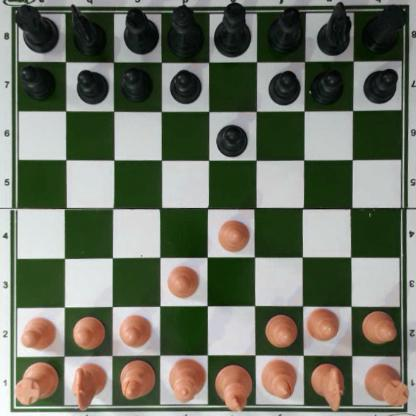black-bishop: (122, 5, 159, 53), (266, 5, 303, 53)
black-king: (214, 3, 251, 56)
black-knight: (70, 2, 105, 57), (317, 1, 350, 56)
black-pawn: (363, 67, 398, 105), (20, 64, 55, 99), (215, 120, 249, 156), (170, 67, 202, 104), (311, 67, 343, 104), (120, 66, 153, 101), (76, 67, 107, 104), (268, 71, 299, 105)
black-queen: (167, 5, 205, 57)
black-rook: (14, 1, 59, 53), (361, 5, 404, 53)
white-bishop: (261, 357, 296, 400), (119, 358, 154, 399)
white-king: (215, 362, 249, 412)
white-knight: (311, 360, 345, 411), (73, 361, 106, 410)
white-pawn: (18, 316, 57, 350), (361, 310, 397, 344), (166, 263, 200, 298), (118, 312, 152, 347), (216, 218, 250, 251), (71, 315, 104, 348), (263, 313, 296, 346), (307, 308, 339, 342)
white-queen: (165, 357, 208, 401)
white-rook: (363, 363, 409, 406), (13, 361, 59, 404)
